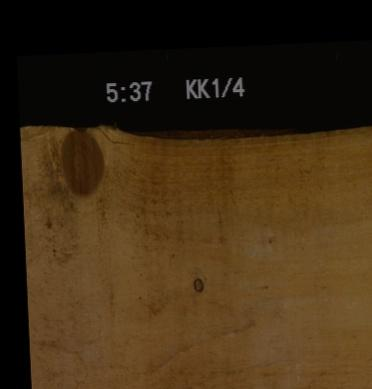dry_knot: (191, 276, 203, 292)
edge_knot: (58, 127, 103, 197)
wave: (131, 128, 295, 140)
